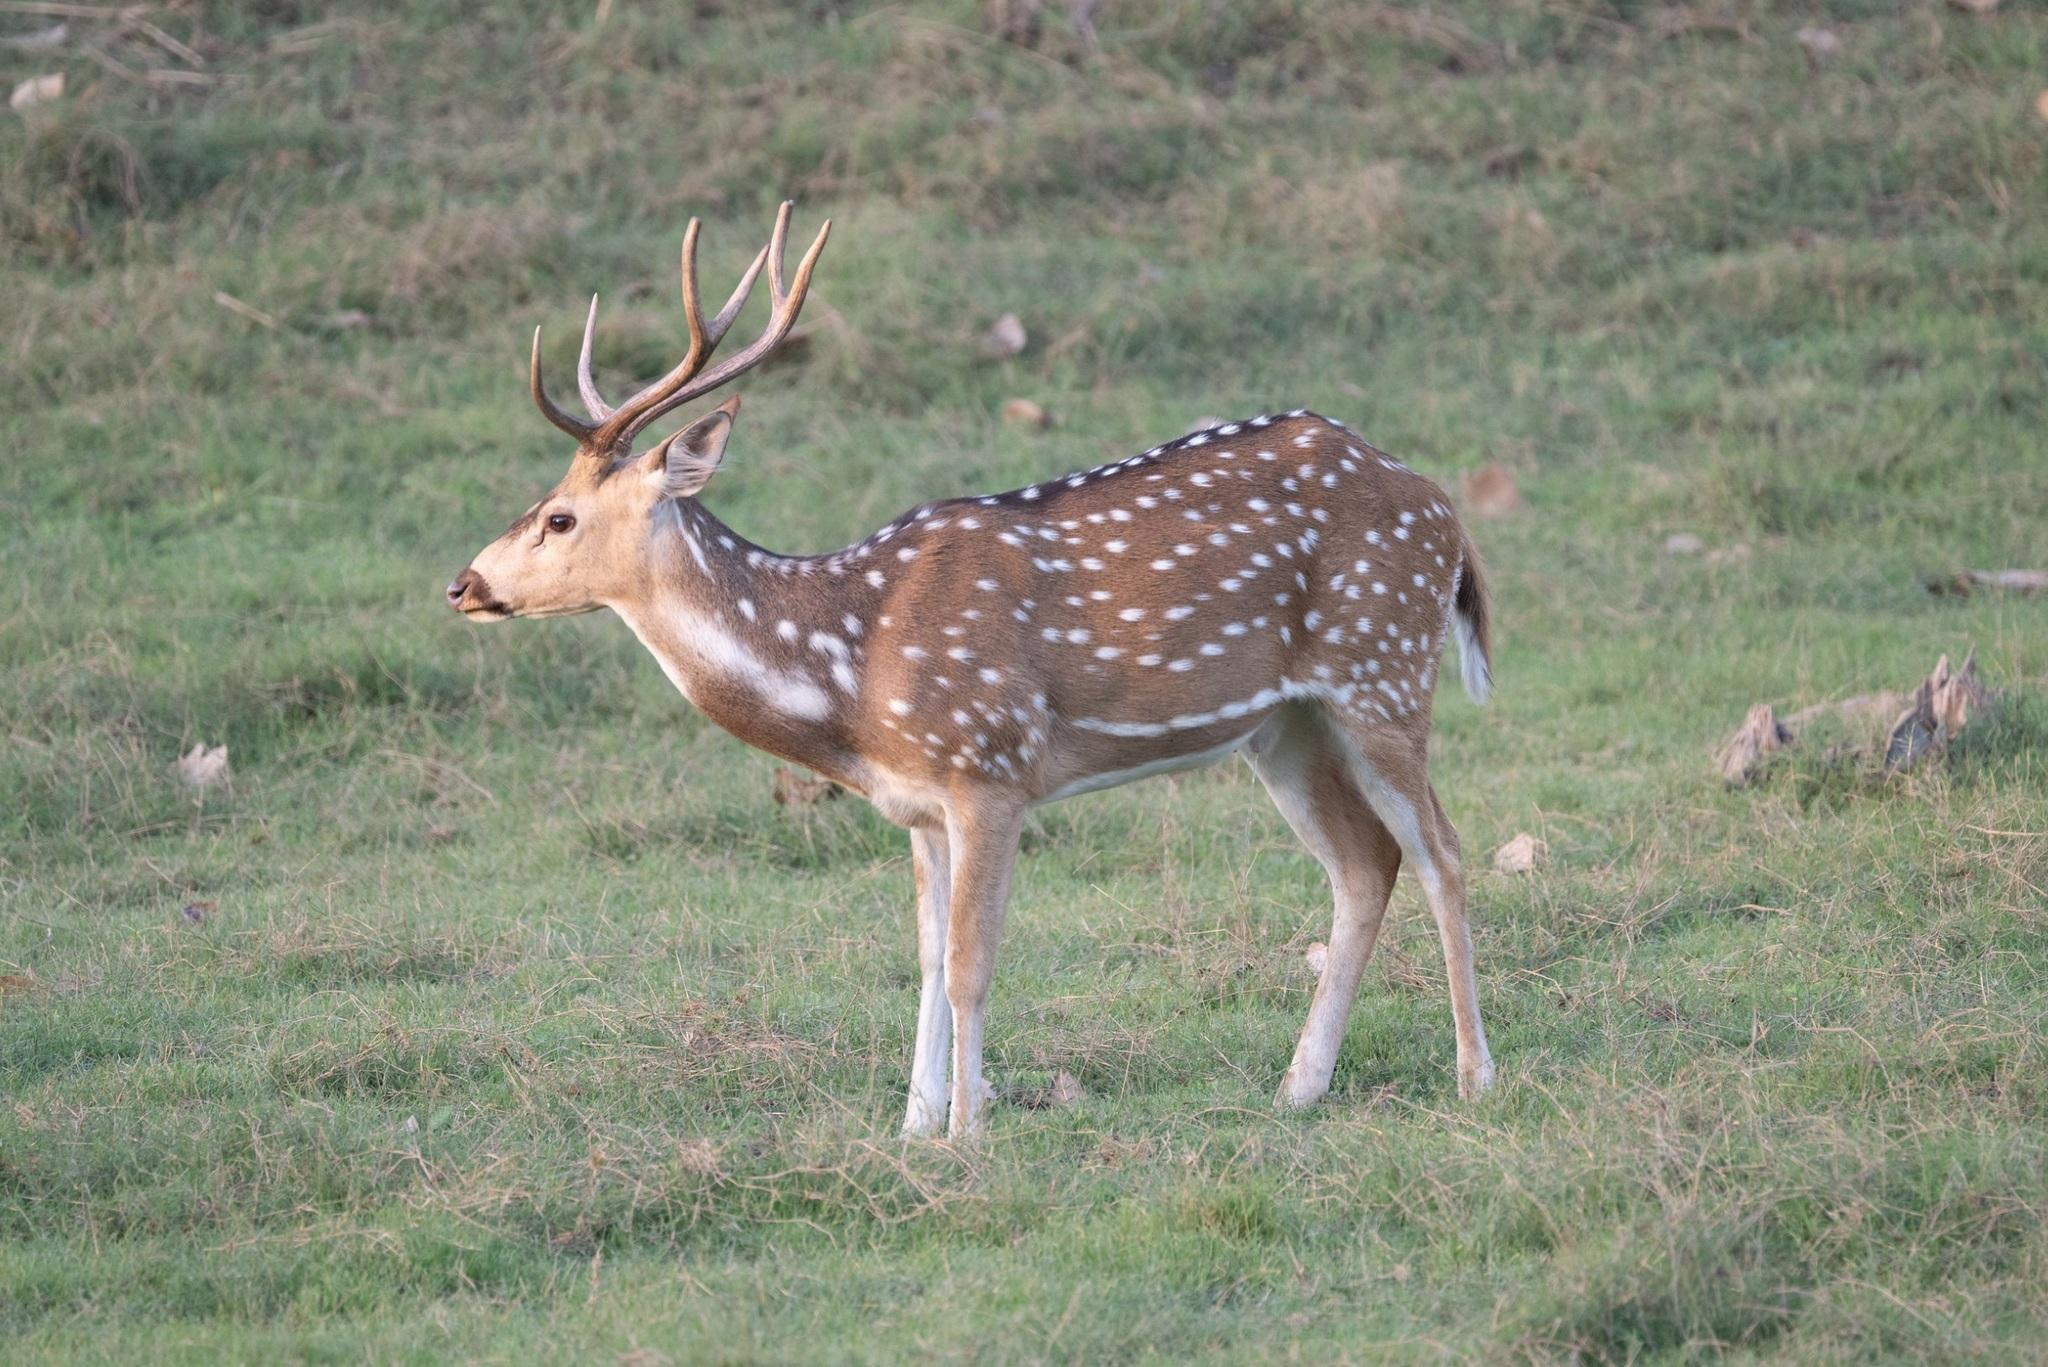Deer: (447, 201, 1494, 1137)
